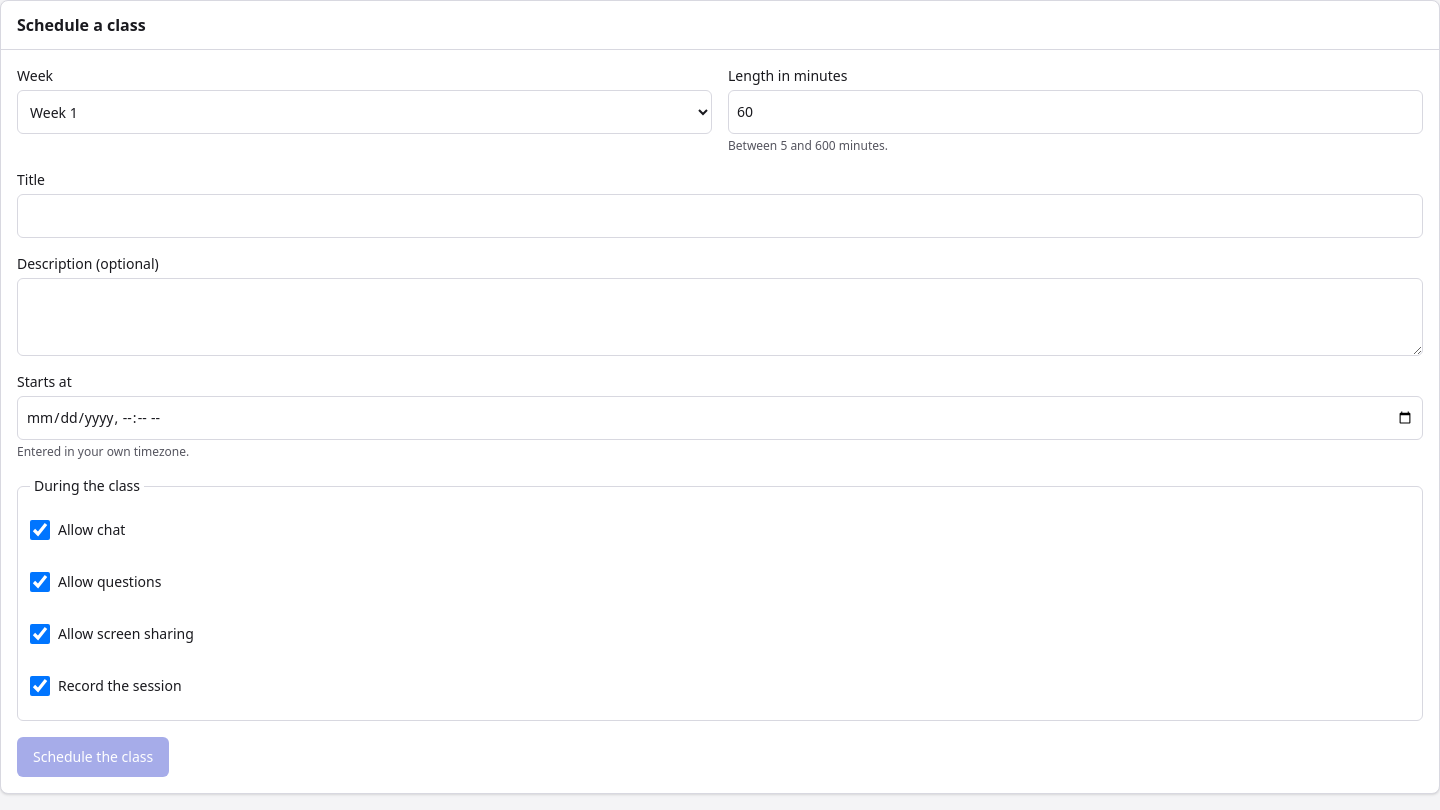
Test: ClassScheduler › keeps submit disabled until the required fields are valid
The image size is (1440, 810).
Expected: the button "Schedule the class" is disabled, [17, 737, 169, 777]
In the field labelled "Title": {"x": 720, "y": 216} [17, 194, 1423, 238], type "Flexbox"
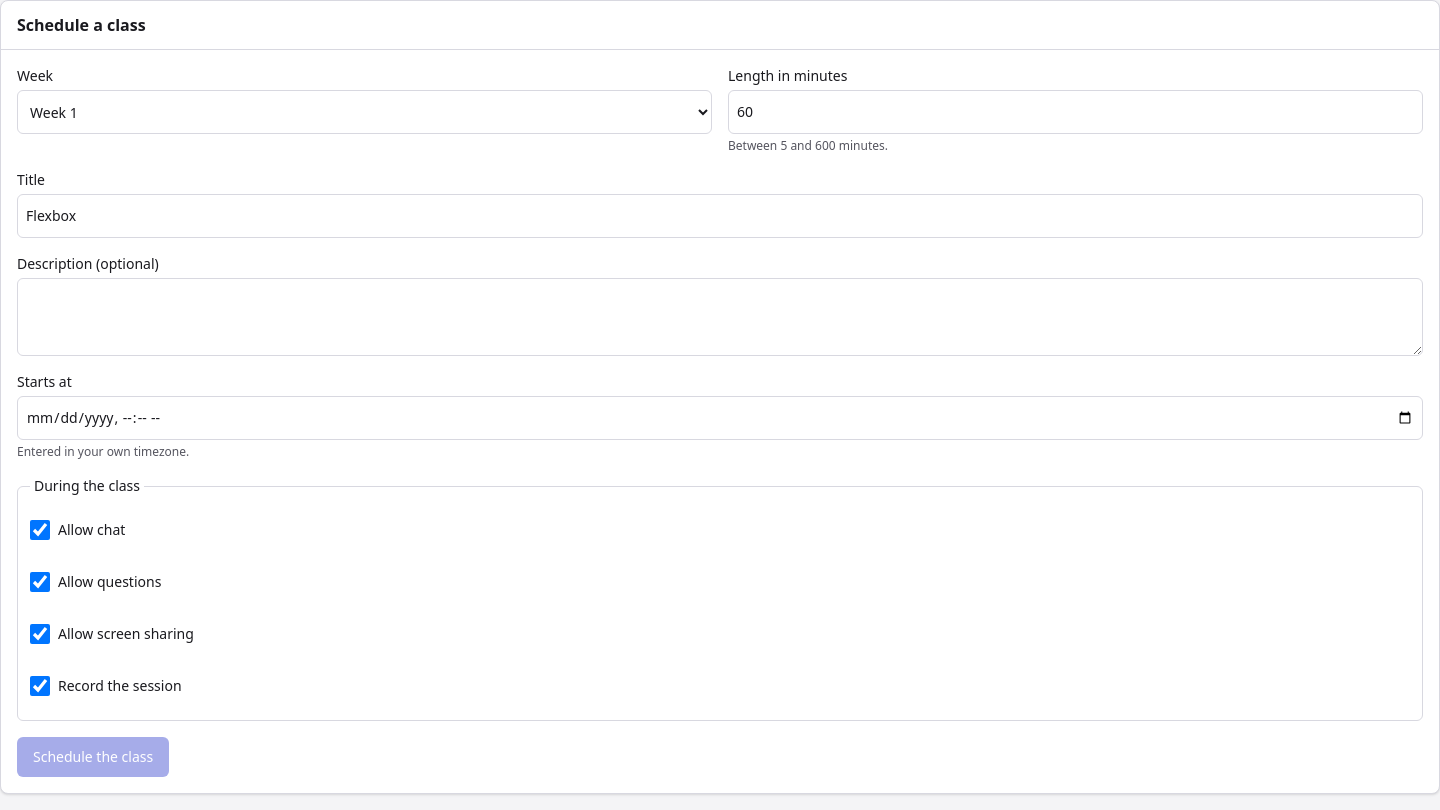
In the field labelled "Starts at": {"x": 720, "y": 418} [17, 396, 1423, 440], type "2026-08-01T14:00"
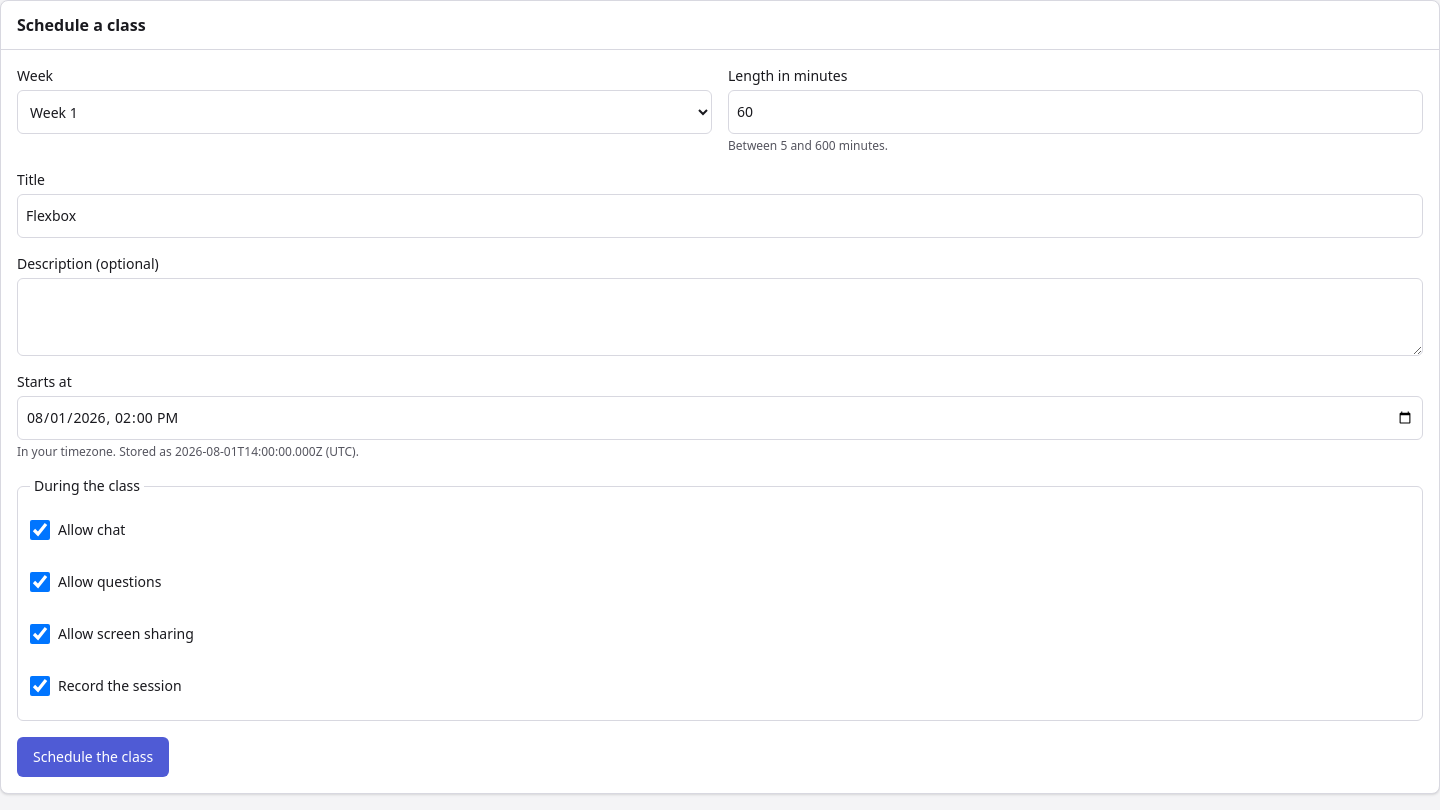
Expected: the button "Schedule the class" is enabled, [17, 737, 169, 777]
